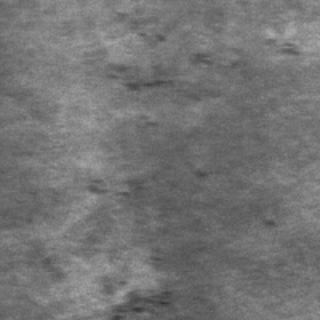rolled pit: (70, 170, 170, 318), (105, 20, 292, 96)
